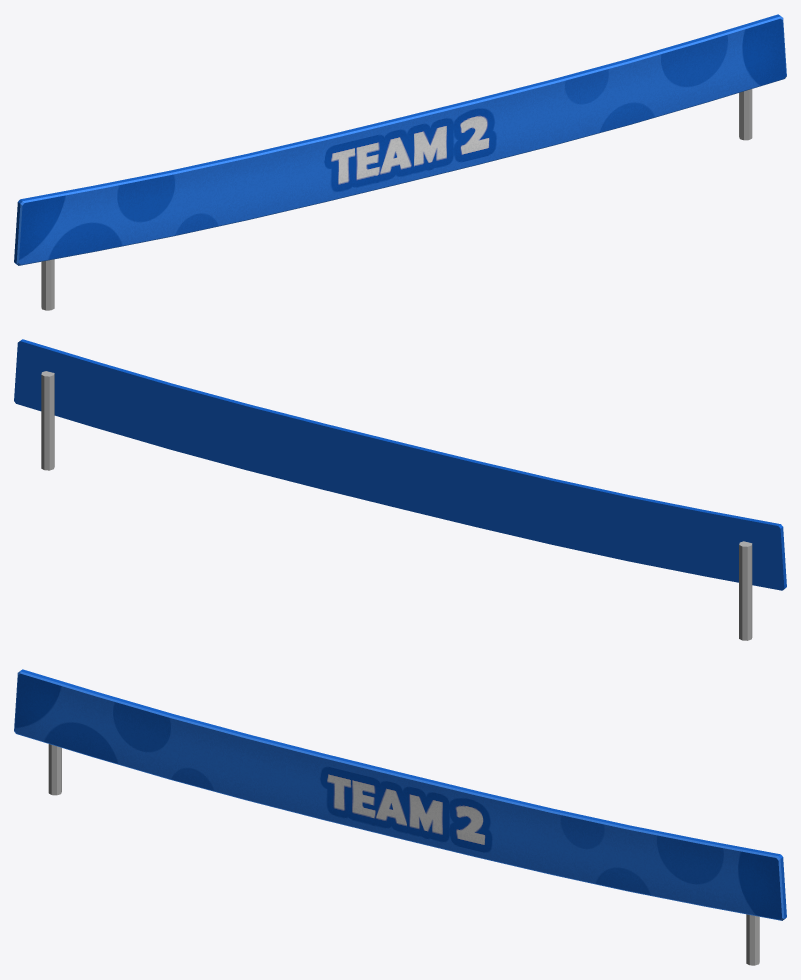
The model's file is billboards_OnColumn_2_C.fbx.
3 renders of one model, top to bottom at view 1: azimuth 30°, elevation 25°; view 2: azimuth 150°, elevation 25°; view 3: azimuth 330°, elevation 25°, orthographic.
Parts seen in each view (by area): view 1: billboards_OnColumn_2_C; view 2: billboards_OnColumn_2_C; view 3: billboards_OnColumn_2_C.
Part boxes in pixels (left/top/right/bottom): billboards_OnColumn_2_C: left=14, top=14, right=786, bottom=310; billboards_OnColumn_2_C: left=14, top=339, right=786, bottom=640; billboards_OnColumn_2_C: left=14, top=669, right=786, bottom=965.
Size of the model in its own units: 784 by 114 by 16.21.
